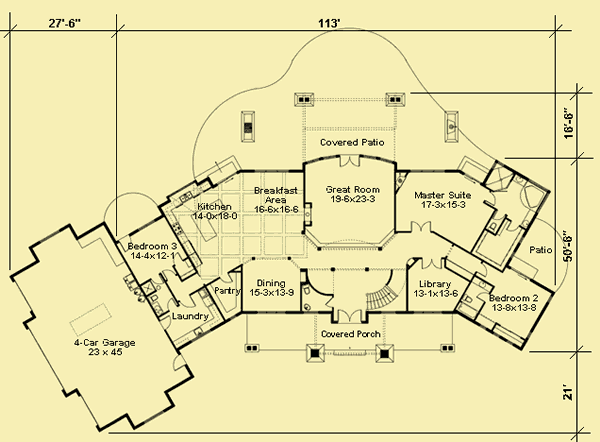door: (335, 307, 366, 323), (417, 256, 444, 272), (336, 154, 364, 167), (169, 354, 187, 372), (410, 219, 434, 232), (179, 295, 198, 311), (162, 266, 178, 281), (483, 191, 497, 207), (120, 235, 133, 252), (160, 313, 171, 331), (505, 220, 520, 233), (475, 291, 490, 304), (219, 272, 235, 284), (493, 211, 509, 222), (477, 263, 488, 276)
stairs: (365, 283, 400, 312)
tub: (518, 183, 545, 211)
